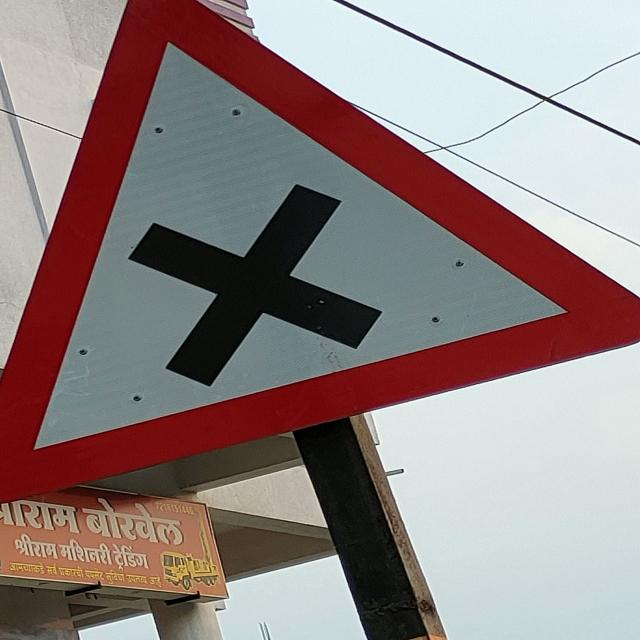CROSS_ROAD: (4, 4, 640, 508)
